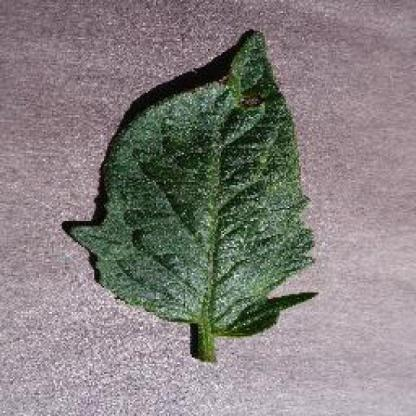Tomato_Blight: (69, 33, 319, 334)
